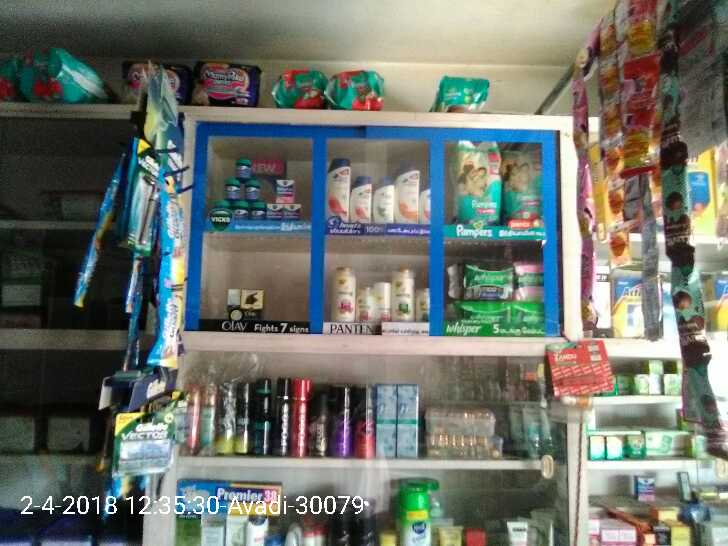vicks: (211, 153, 304, 222)
